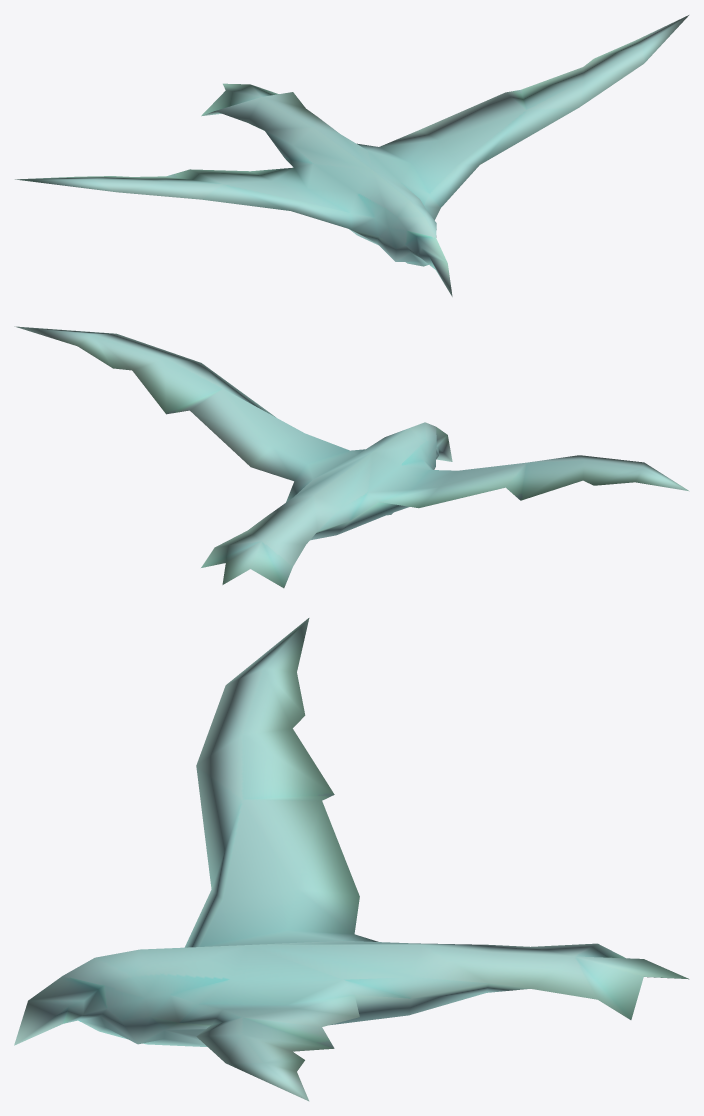
File: flying_crow_color.glb
The picture shows the model from 3 angles, top to bottom: view 1: azimuth 30°, elevation 25°; view 2: azimuth 150°, elevation 25°; view 3: azimuth 270°, elevation 25°; orthographic projection. The views are drawn at different scales.
Visible parts, largest first — view 1: flyingCrow; view 2: flyingCrow; view 3: flyingCrow.
Part boxes in pixels (x1=…): flyingCrow: x1=15, y1=15, x2=688, y2=296; flyingCrow: x1=14, y1=326, x2=689, y2=588; flyingCrow: x1=14, y1=618, x2=689, y2=1101.
Bounding box in the file's own units: 1.57 × 0.2854 × 0.928.
Materials: 1 (1 with a texture image).
